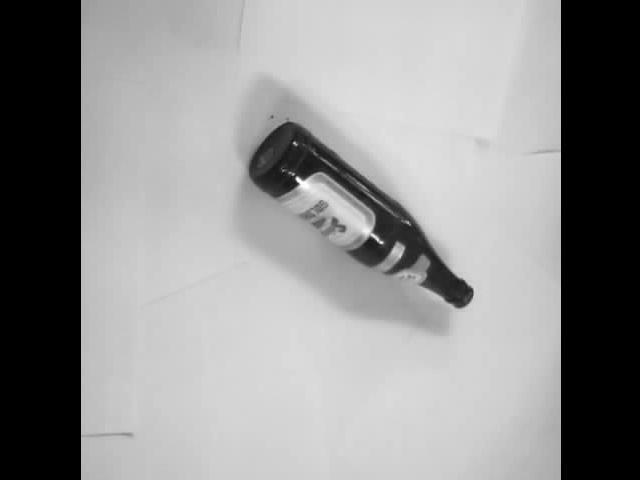Glass: (245, 121, 476, 308)
